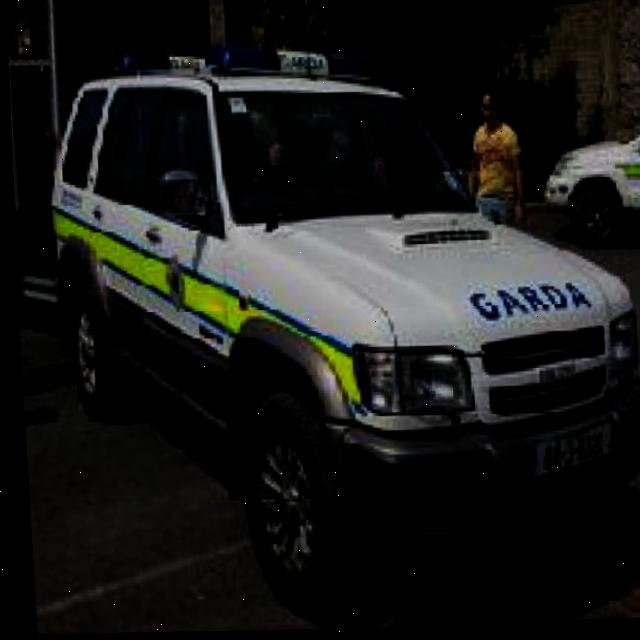emergency: (29, 15, 640, 604)
